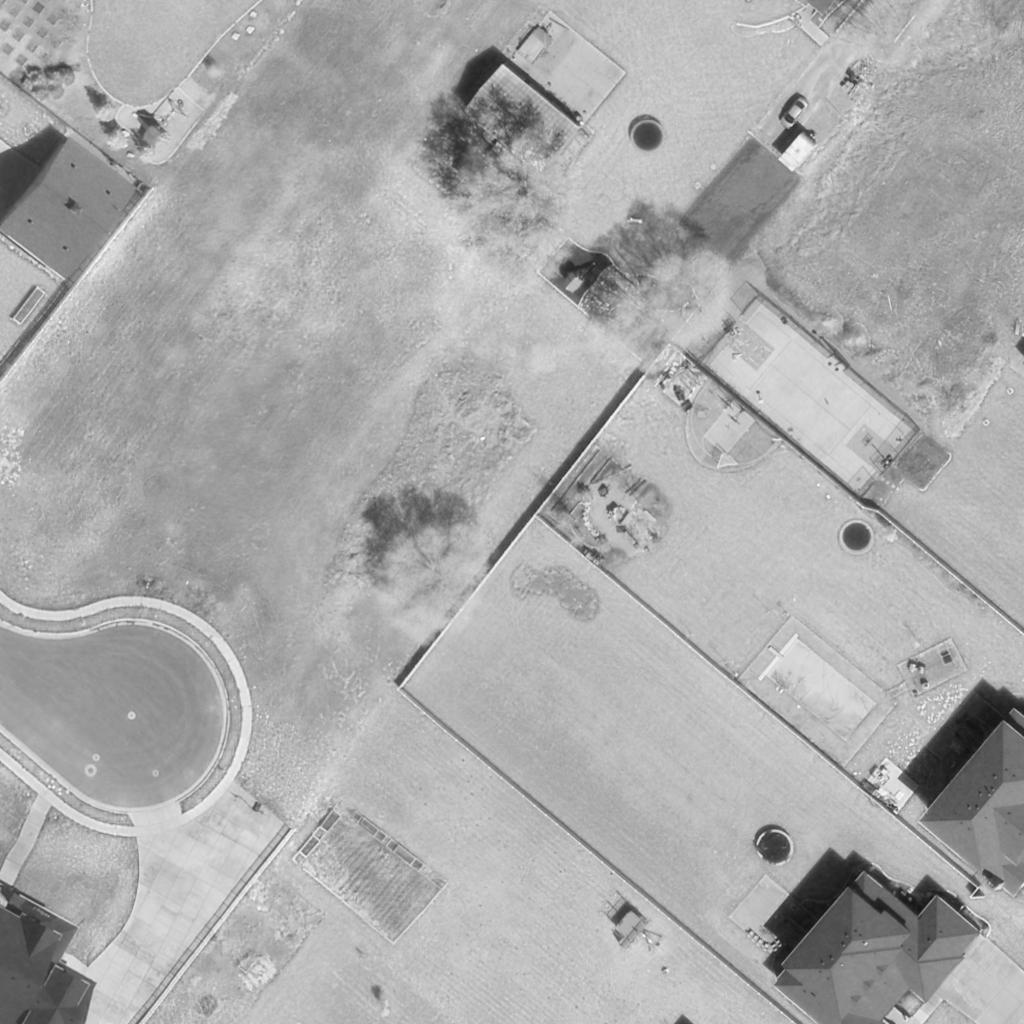vehicle: (778, 130, 822, 174), (779, 95, 811, 131)
